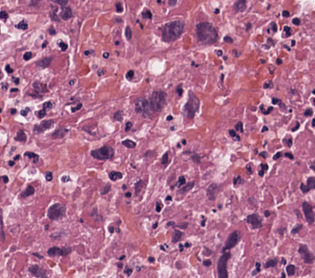nucleus: (161, 20, 184, 42), (196, 22, 217, 44), (183, 91, 199, 118), (149, 90, 166, 114), (135, 97, 153, 117), (223, 230, 239, 251), (47, 203, 65, 219), (91, 146, 113, 159), (302, 202, 313, 223), (246, 213, 261, 228), (300, 176, 314, 192), (34, 120, 52, 131), (51, 127, 67, 138), (207, 183, 217, 200), (33, 81, 47, 93), (179, 181, 194, 192), (60, 7, 72, 19), (233, 0, 246, 11), (37, 58, 51, 67), (172, 230, 182, 242), (122, 139, 135, 148), (258, 163, 267, 176), (109, 171, 122, 180), (135, 180, 143, 194), (229, 129, 239, 139), (161, 152, 168, 165), (113, 110, 122, 120), (142, 9, 151, 18), (292, 224, 301, 233), (283, 136, 291, 146), (233, 175, 241, 185), (102, 184, 110, 194), (54, 0, 67, 6), (125, 26, 131, 39), (72, 103, 81, 111), (50, 233, 62, 239), (235, 121, 242, 131), (178, 176, 185, 186), (116, 1, 122, 12), (176, 85, 182, 96), (37, 109, 45, 117), (59, 41, 66, 50), (43, 101, 52, 108), (284, 26, 290, 36), (125, 121, 131, 131), (292, 18, 300, 25), (126, 70, 133, 78), (292, 122, 299, 130), (273, 152, 281, 159), (285, 152, 293, 159), (192, 154, 199, 162), (263, 107, 272, 113), (246, 164, 252, 173), (156, 201, 161, 211), (224, 36, 232, 42), (264, 82, 272, 88), (304, 109, 312, 115), (45, 172, 51, 180), (282, 10, 289, 16), (272, 98, 280, 103), (61, 176, 69, 181), (272, 22, 276, 31), (97, 69, 103, 75), (264, 210, 270, 216), (178, 223, 187, 227), (49, 27, 54, 34), (84, 50, 91, 55), (259, 152, 266, 157), (168, 1, 176, 5), (31, 92, 39, 96), (267, 38, 273, 43), (216, 50, 222, 55), (276, 58, 281, 64), (166, 115, 172, 120), (246, 23, 250, 30), (109, 225, 113, 232), (103, 52, 108, 57), (262, 126, 267, 131), (125, 192, 130, 197), (30, 1, 38, 4), (167, 221, 173, 225), (311, 163, 314, 170), (214, 9, 219, 13), (166, 196, 171, 200), (184, 243, 190, 246), (70, 80, 74, 84), (312, 118, 314, 126), (43, 42, 46, 46), (182, 140, 185, 144), (122, 185, 125, 189), (153, 223, 156, 227)
